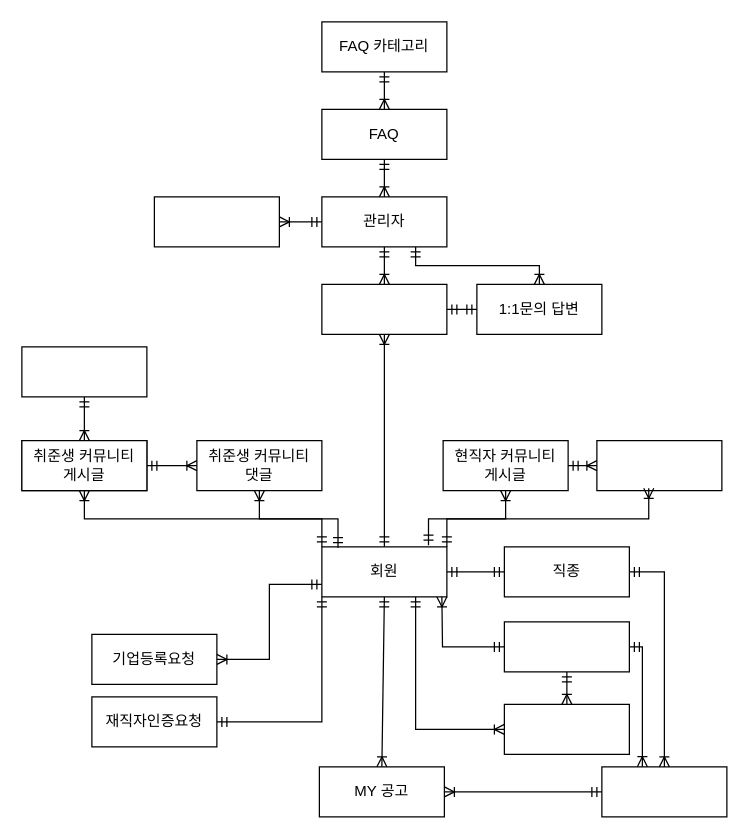
This 749x839 diagram has some shape labels left out. The shapes that lost their labels are listed below. From the top down, each one's centre as x and y in pixels, then its label:
At pixel 216 221: "공지사항".
At pixel 384 308: "1:1문의".
At pixel 84 371: "취준생 커뮤니티 카테고리".
At pixel 659 465: "현직자 커뮤니티 댓글".
At pixel 566 646: "회사".
At pixel 566 728: "기업리뷰".
At pixel 664 791: "채용공고".
